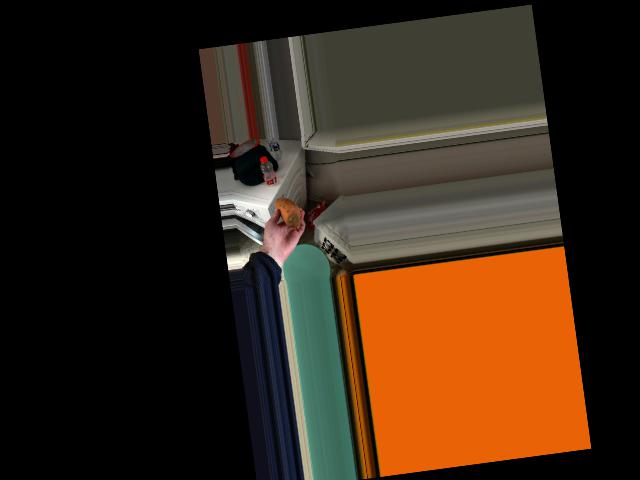sweet_potato: (275, 195, 301, 227)
